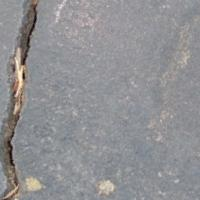crack: (1, 0, 54, 197)
